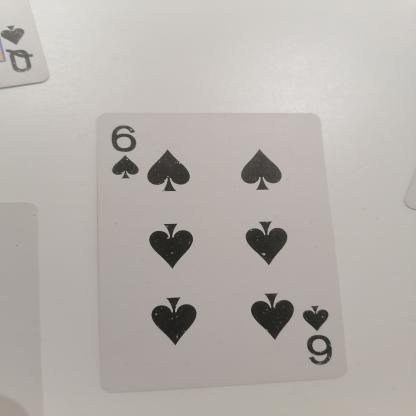6S: (107, 124, 156, 190), (293, 298, 339, 368)
